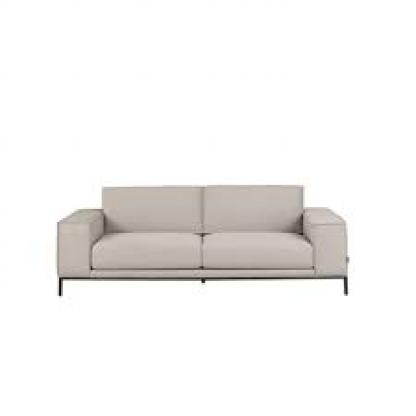sofa: (54, 187, 356, 307)
